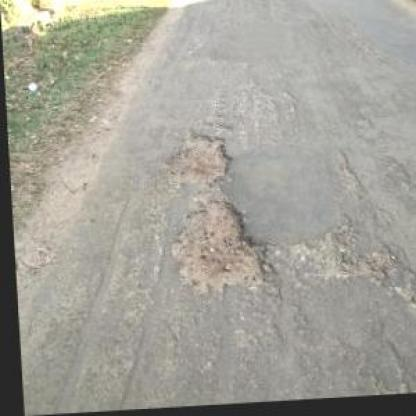pothole: (164, 197, 268, 298), (296, 229, 396, 287), (162, 130, 232, 188)
